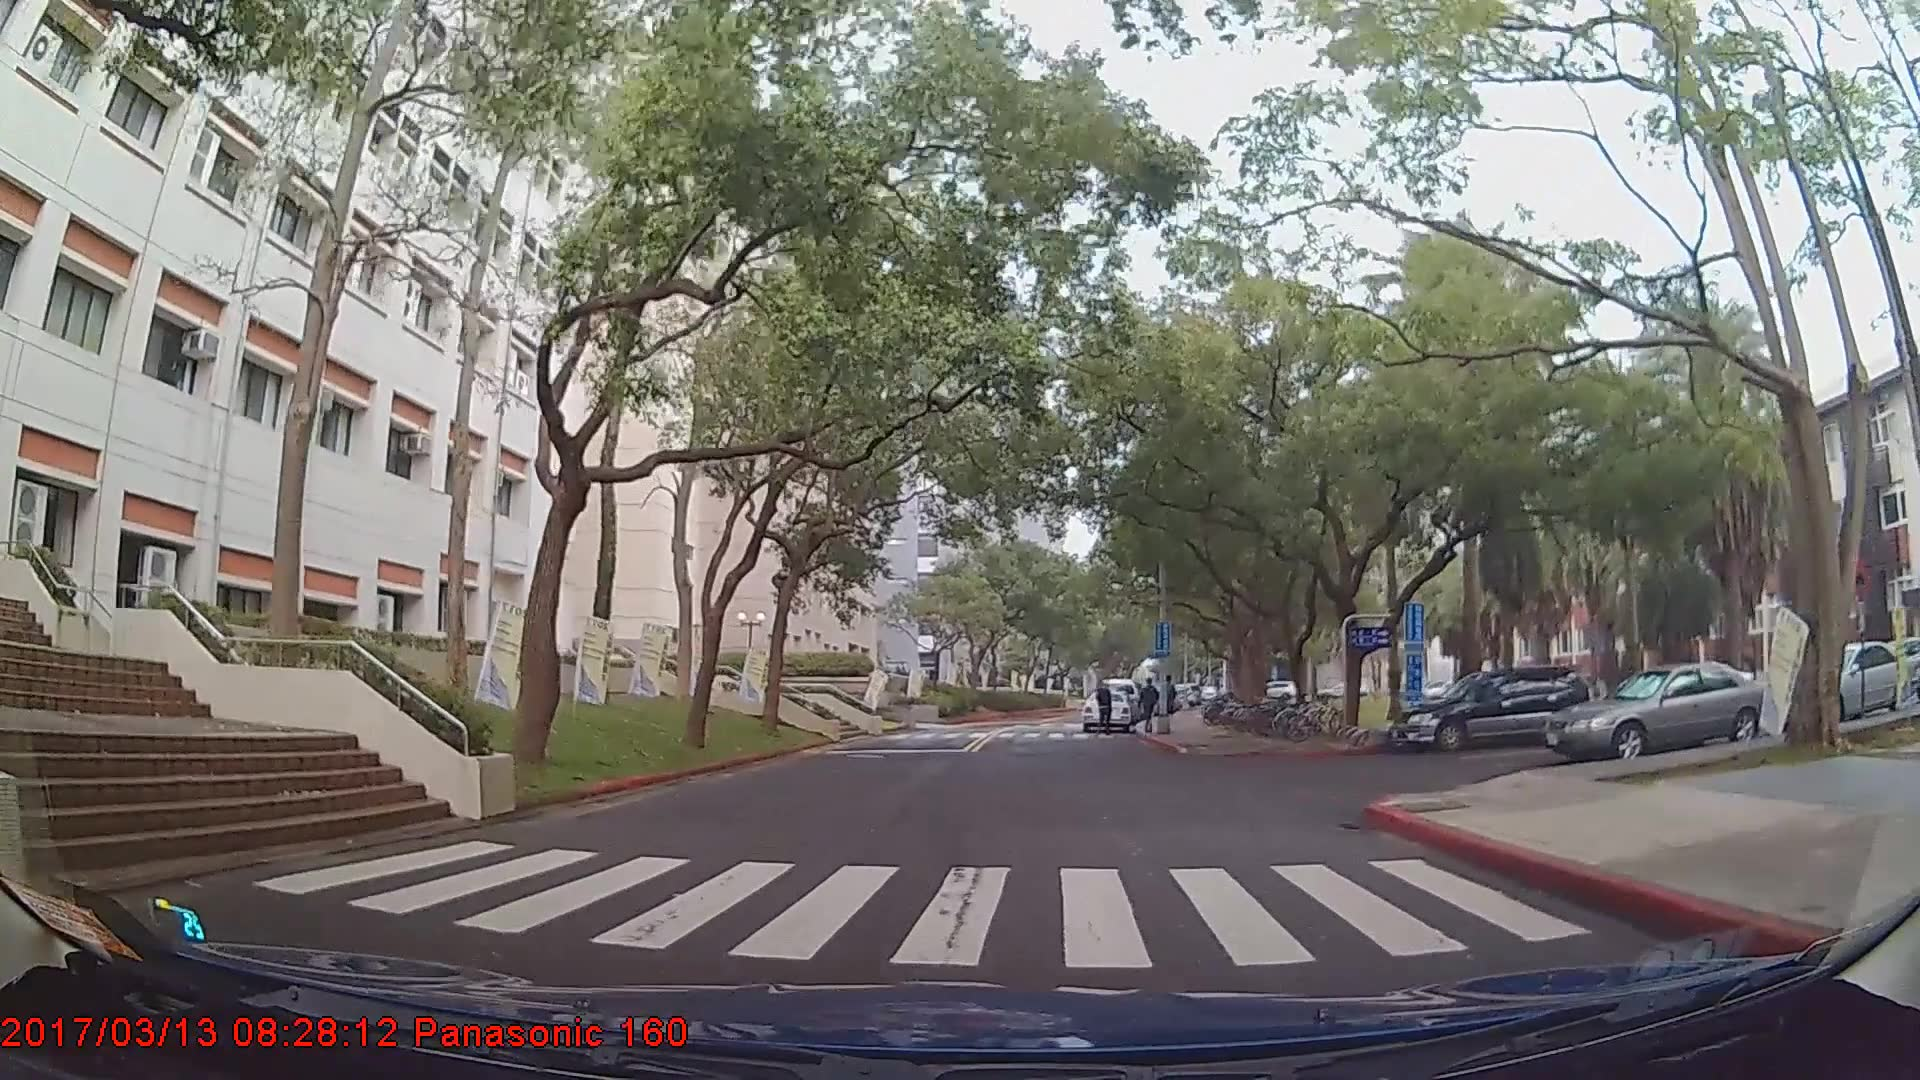pedestrian: (1139, 678, 1164, 731), (1094, 683, 1114, 737)
vehicle: (1545, 659, 1772, 766), (1395, 664, 1592, 749), (1781, 642, 1919, 723), (1078, 688, 1132, 731)
